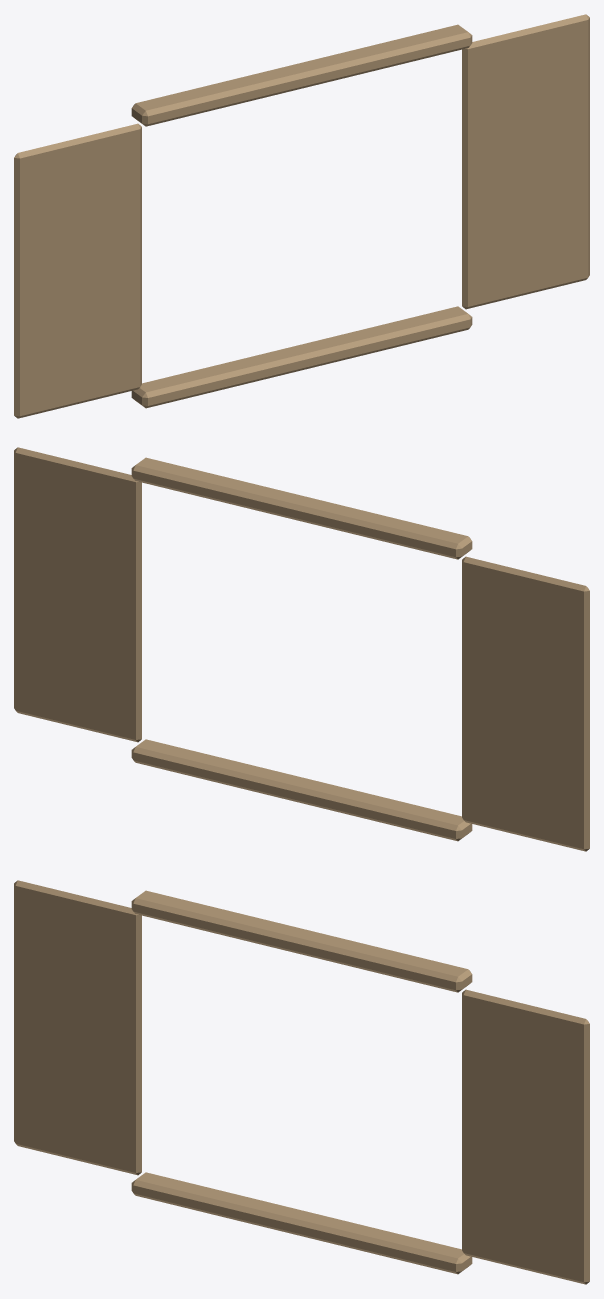
File: hotel_window_shutters.glb
The picture shows the model from 3 angles, top to bottom: view 1: azimuth 30°, elevation 25°; view 2: azimuth 150°, elevation 25°; view 3: azimuth 330°, elevation 25°; orthographic projection.
Parts seen in each view (by area): view 1: hotel_window_shutters; view 2: hotel_window_shutters; view 3: hotel_window_shutters.
Part boxes in pixels (x1,y1,x2,y2): hotel_window_shutters: (14,14,589,418); hotel_window_shutters: (14,447,589,851); hotel_window_shutters: (14,880,589,1284).
Size of the model in its own units: 2.27 by 1.12 by 0.1.
